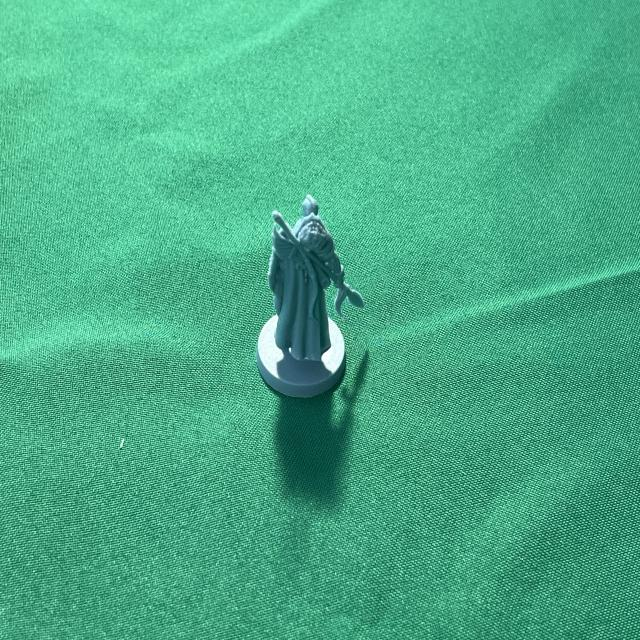isis_follower: (251, 186, 366, 402)
